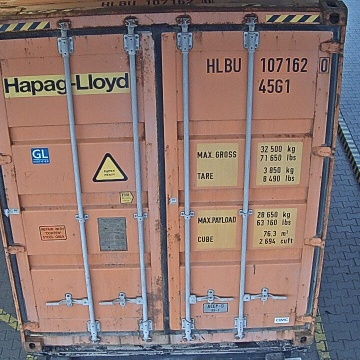serial_id: (207, 57, 329, 72)
